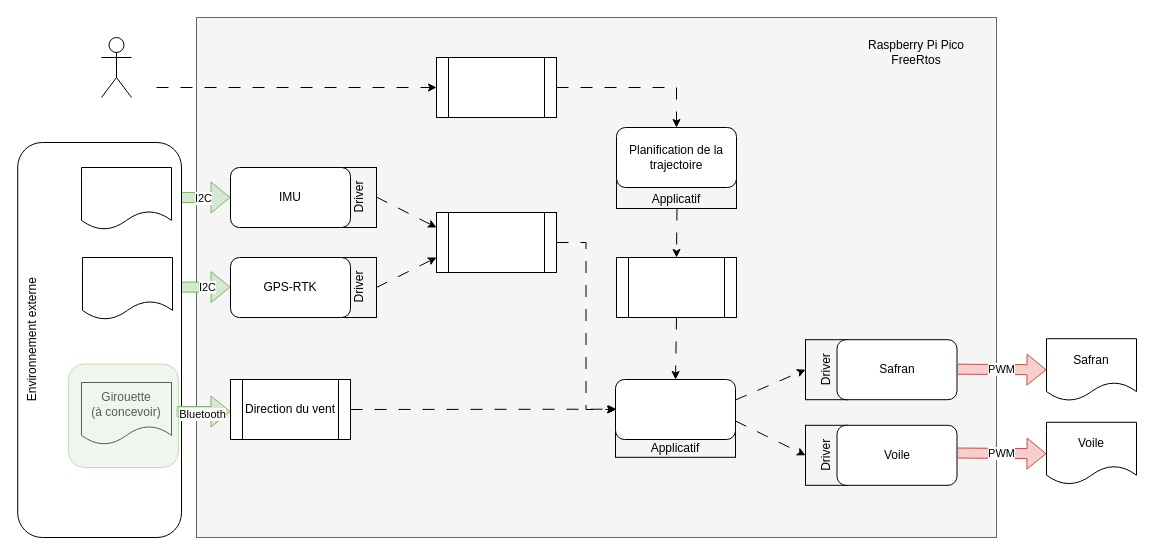
Image size: 1154x555. Some labels were removed from this diagram. Here are the shapes that lost their labels. From the top down, the centre of each, then its label:
At pixel 116 67: "Define target".
At pixel 496 87: "Cible".
At pixel 126 198: "Capteur IMU".
At pixel 496 242: "Position / Altitude".
At pixel 127 288: "Capteur GPS".
At pixel 676 287: "Trajet planifié".
At pixel 123 415: "Partie spécifiée".
At pixel 675 409: "Controle de la trajectoire".
